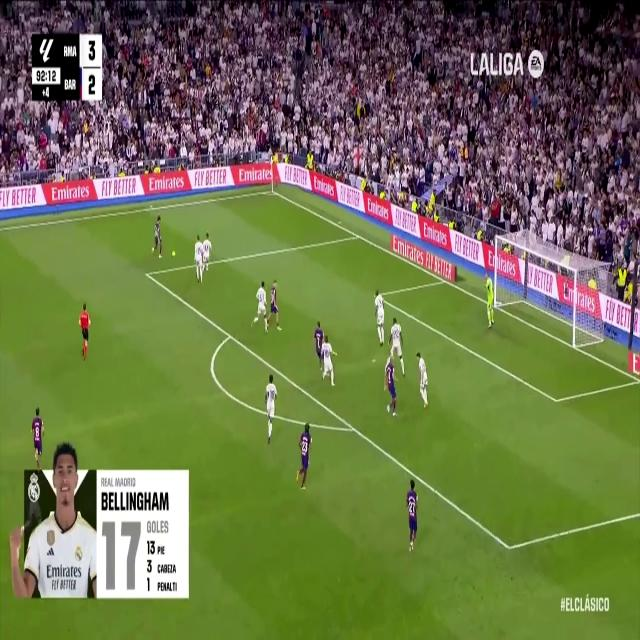bigarea_bottom_inner: (502, 530, 516, 562)
bigarea_top_inner: (144, 267, 150, 281)
bigarea_top_outter: (354, 226, 362, 242)
bottom_arc_area_intersection: (348, 416, 358, 439)
corner: (267, 184, 277, 196)
smallarea_bottom_inner: (551, 389, 561, 411)
top_arc_area_intersection: (225, 325, 235, 344)
